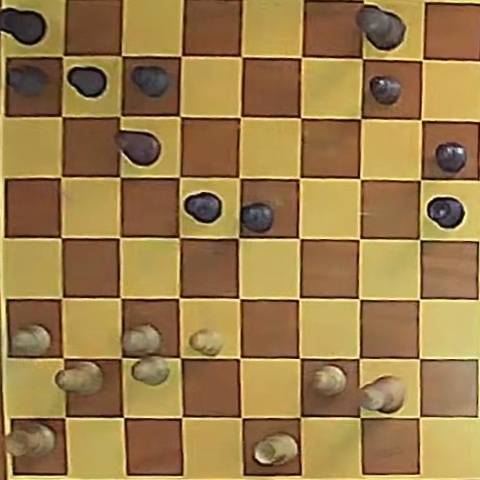black-king: (355, 6, 405, 51)
black-knight: (115, 131, 160, 167)
black-pawn: (7, 65, 49, 97), (67, 66, 107, 99), (131, 65, 170, 97), (184, 192, 222, 223), (435, 142, 467, 173), (241, 203, 274, 233), (370, 76, 402, 105)
black-rook: (0, 7, 47, 46), (425, 196, 464, 229)
white-bishop: (56, 361, 104, 394)
white-king: (361, 376, 406, 413)
white-pawn: (11, 324, 51, 356), (122, 324, 161, 355), (131, 355, 170, 385), (312, 365, 347, 396), (190, 329, 224, 356)
white-rook: (6, 421, 57, 459), (254, 432, 298, 466)
